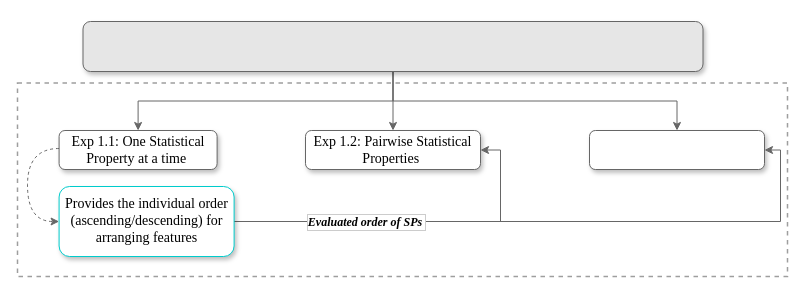
Image size: 807x295. Some labels were removed from this diagram. The centre of each missing label's shape, as x and y in pixels:
"Exp 1.3: All Statistical Properties" belongs at point (677, 151).
"EXPERIMENT 1: Systematic Feature Ranking for Improved Predictive Modeling" belongs at point (393, 47).
